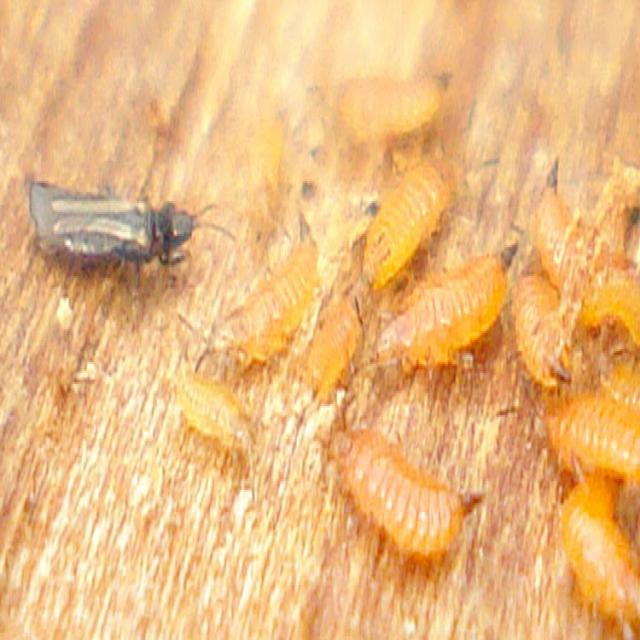Thrip-Adult-: (20, 158, 207, 293)
Thrip-Larva-: (319, 386, 497, 566), (356, 228, 531, 385), (355, 129, 495, 297), (190, 230, 324, 376), (166, 361, 262, 469)
